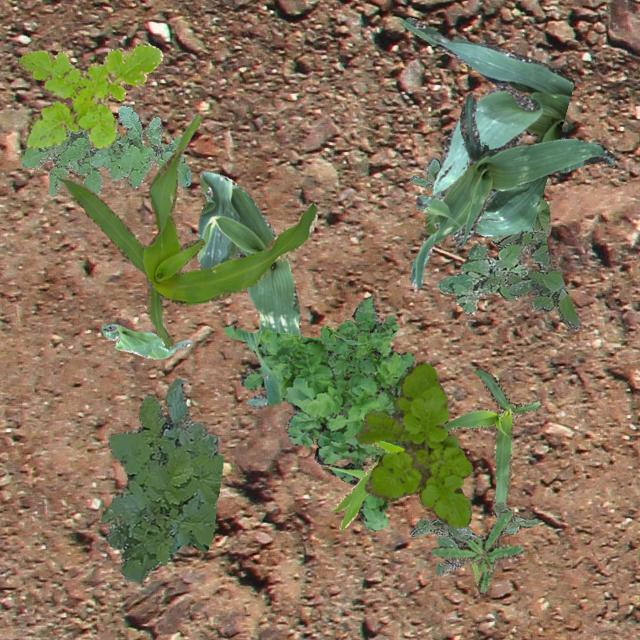crop: (56, 114, 316, 346), (410, 92, 614, 290), (402, 16, 574, 236), (195, 170, 299, 408), (330, 440, 480, 586), (442, 366, 540, 512), (100, 322, 190, 358), (530, 197, 548, 236)
weed: (222, 324, 414, 530), (100, 378, 222, 582), (356, 360, 472, 526), (19, 104, 190, 195), (17, 41, 162, 148), (478, 228, 580, 330), (408, 502, 540, 576), (436, 230, 530, 314), (429, 508, 522, 592), (320, 296, 398, 376), (408, 156, 444, 208)
